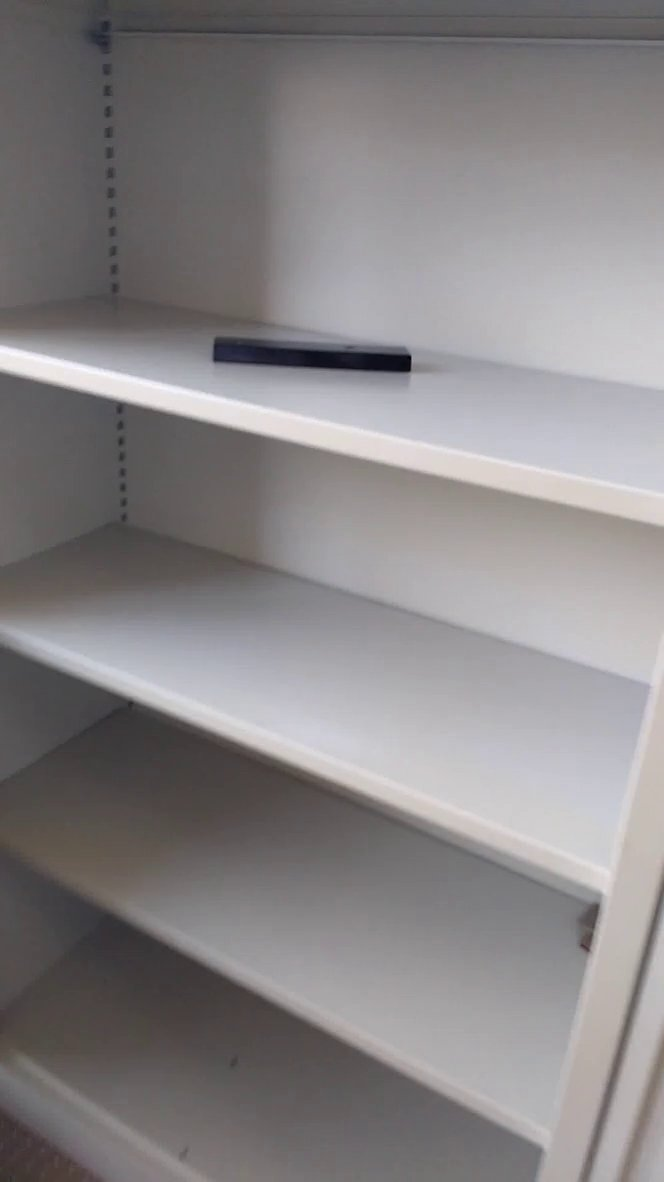remote: (202, 325, 420, 389)
